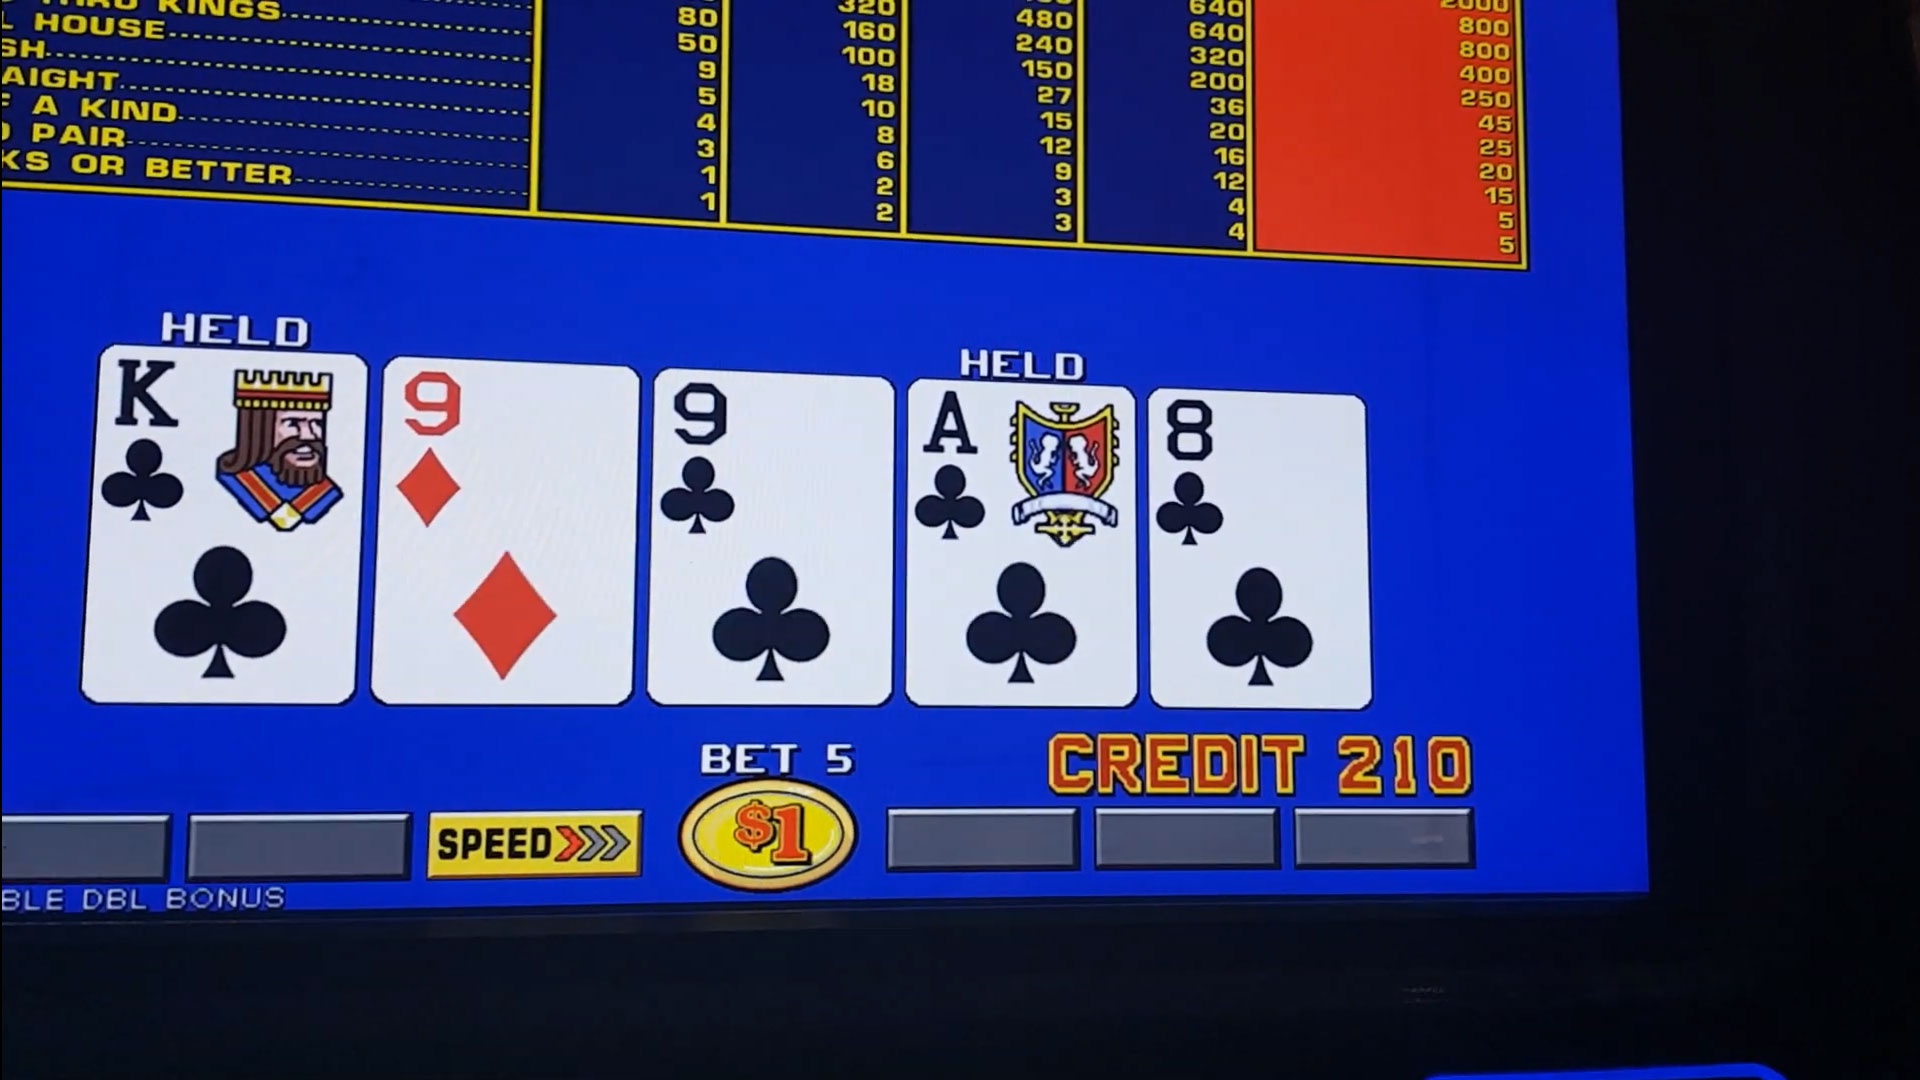C8: (1151, 401, 1364, 555)
C9: (665, 382, 887, 545)
CA: (914, 389, 1131, 553)
CK: (104, 359, 363, 530)
D9: (396, 371, 632, 542)
